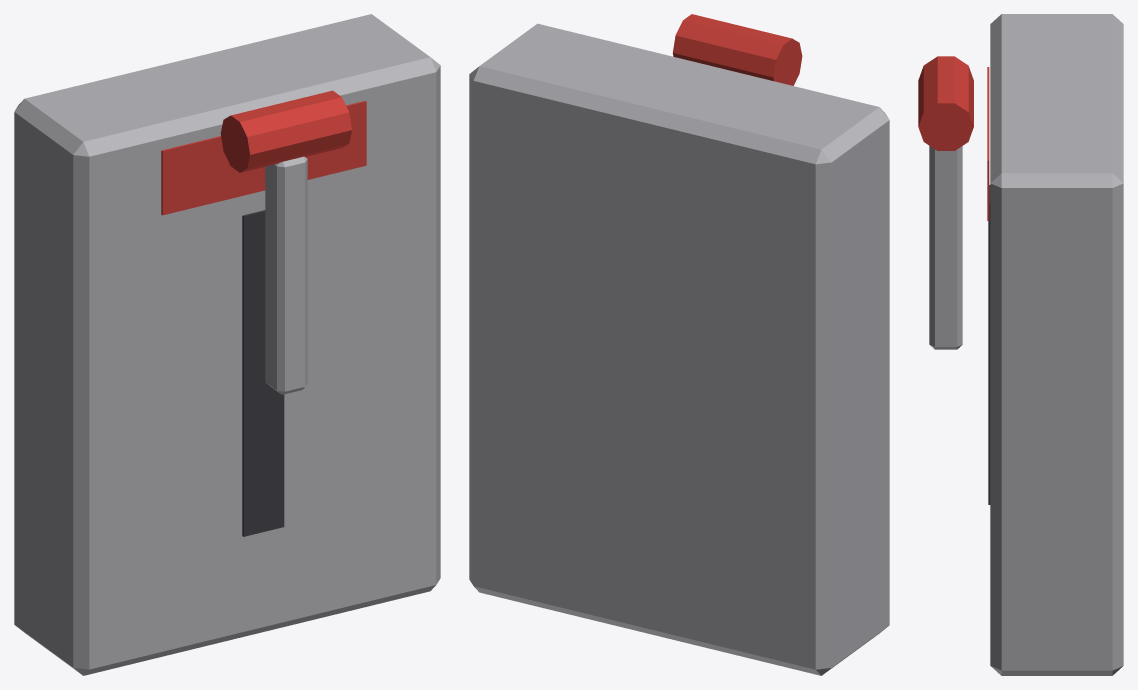
File: generator_lever.fbx
3 views of the same model, side by side, from view 1: azimuth 30°, elevation 25°; view 2: azimuth 150°, elevation 25°; view 3: azimuth 270°, elevation 25° (orthographic). The views are drawn at different scales.
Visible parts, largest first — view 1: Body, Lever; view 2: Body, Lever; view 3: Body, Lever.
Boxes of the visible parts, left/top/right/bottom form: Body: left=14, top=14, right=440, bottom=675; Lever: left=220, top=90, right=351, bottom=394; Body: left=469, top=23, right=889, bottom=675; Lever: left=672, top=14, right=802, bottom=85; Body: left=987, top=14, right=1123, bottom=675; Lever: left=918, top=56, right=973, bottom=349.
Bounding box in the file's own units: 0.36 × 0.5138 × 0.185.
